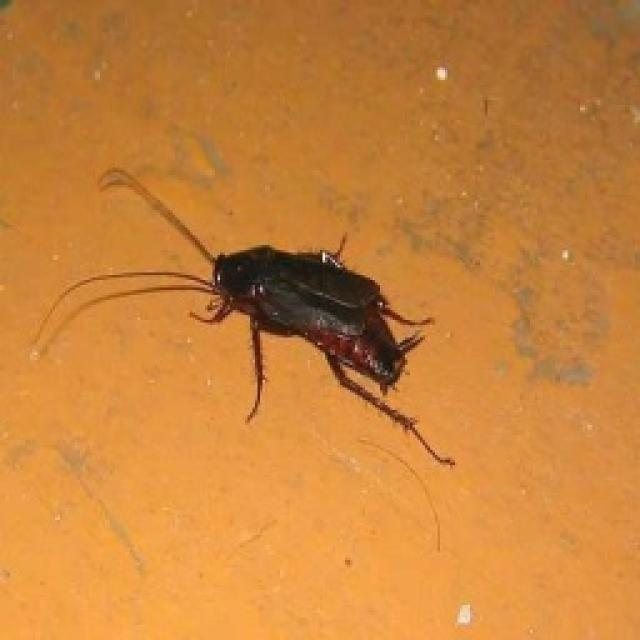cockroach: (154, 162, 461, 466)
